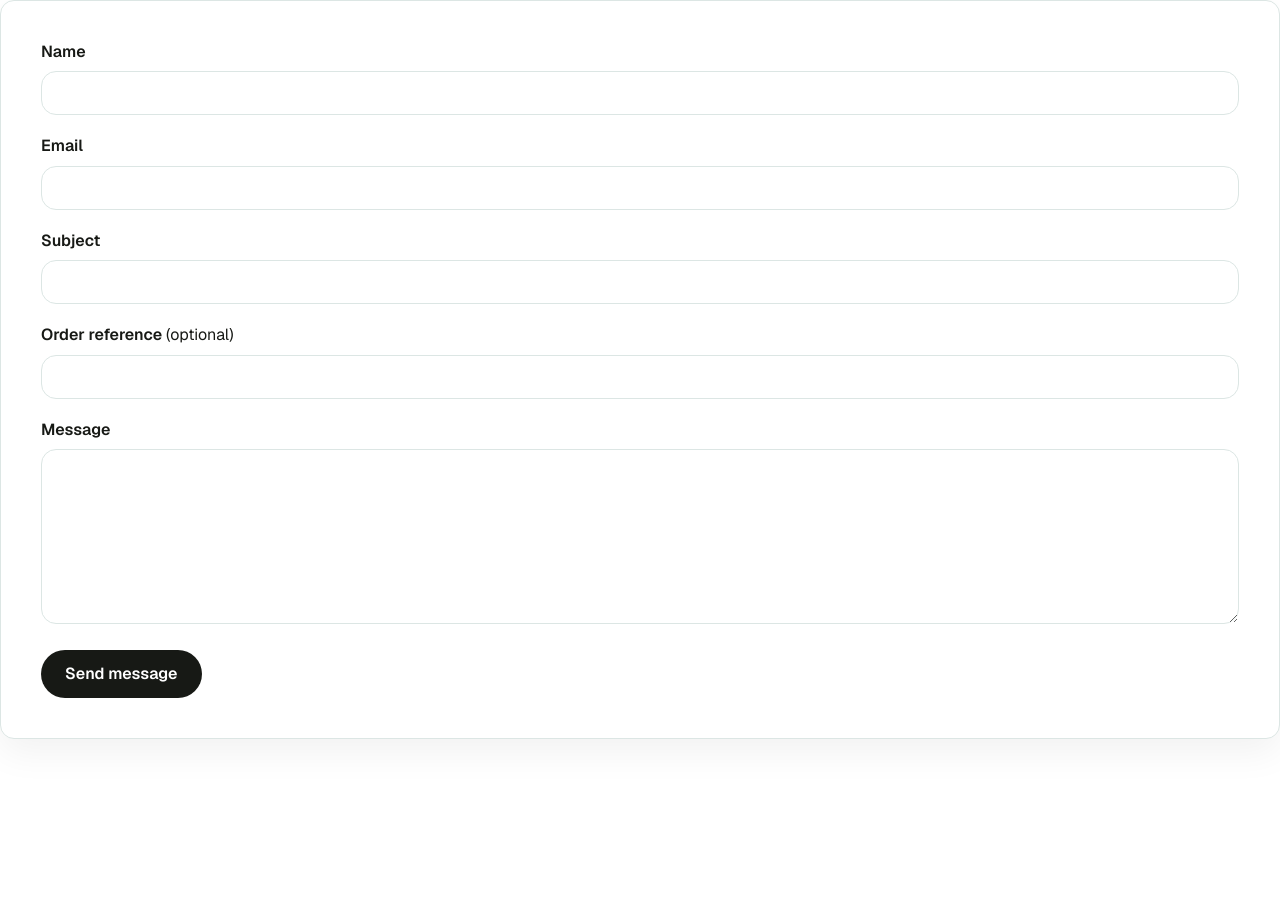
Scenario: ContactForm › clears settled ACCEPTED feedback when the visitor edits the form
Type "Ada" into the field labelled "Name".
click(640, 93); type("Ada")  # box [41,71,1239,115]
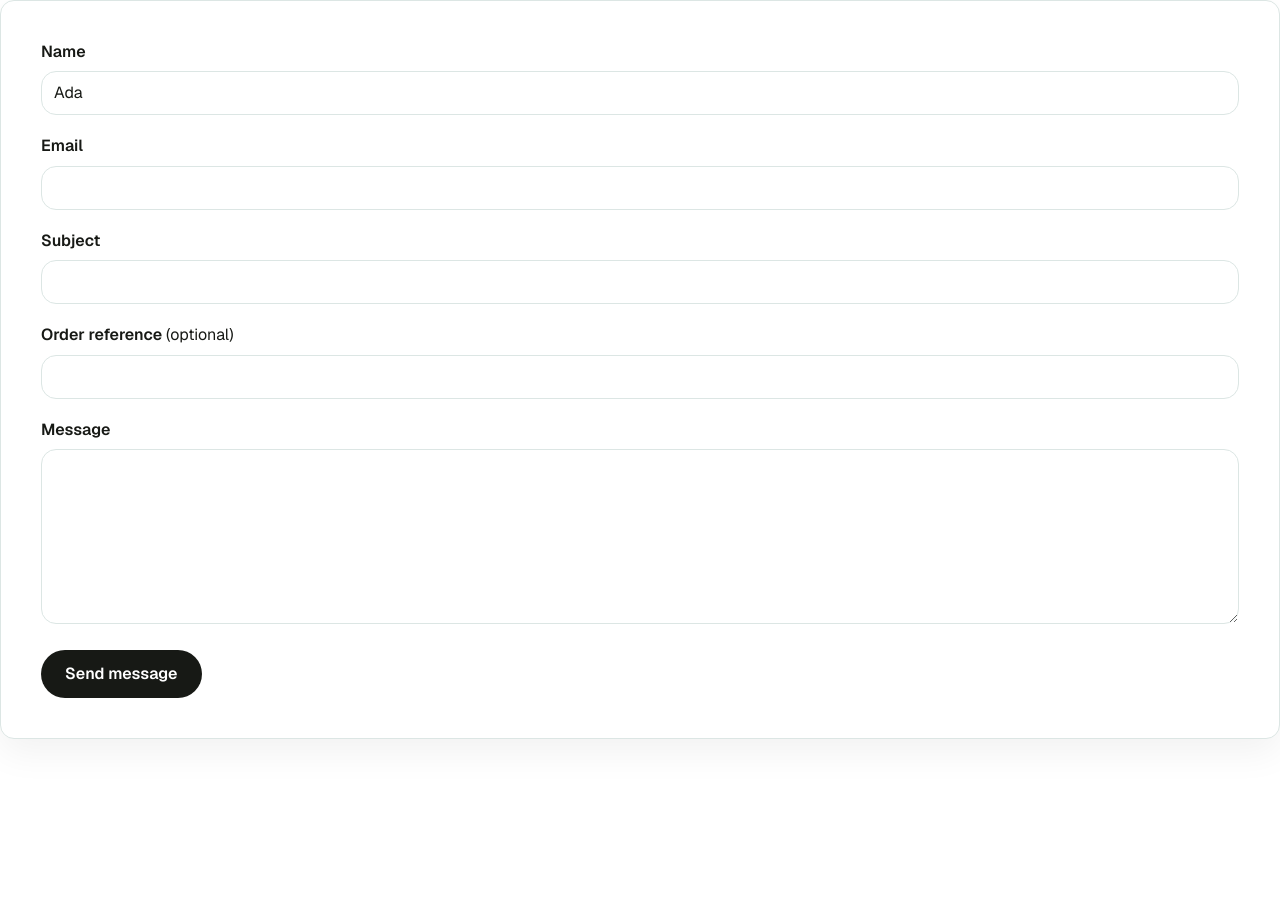
Type "ada@example.test" into the field labelled "Email".
click(640, 188); type("ada@example.test")  # box [41,166,1239,210]
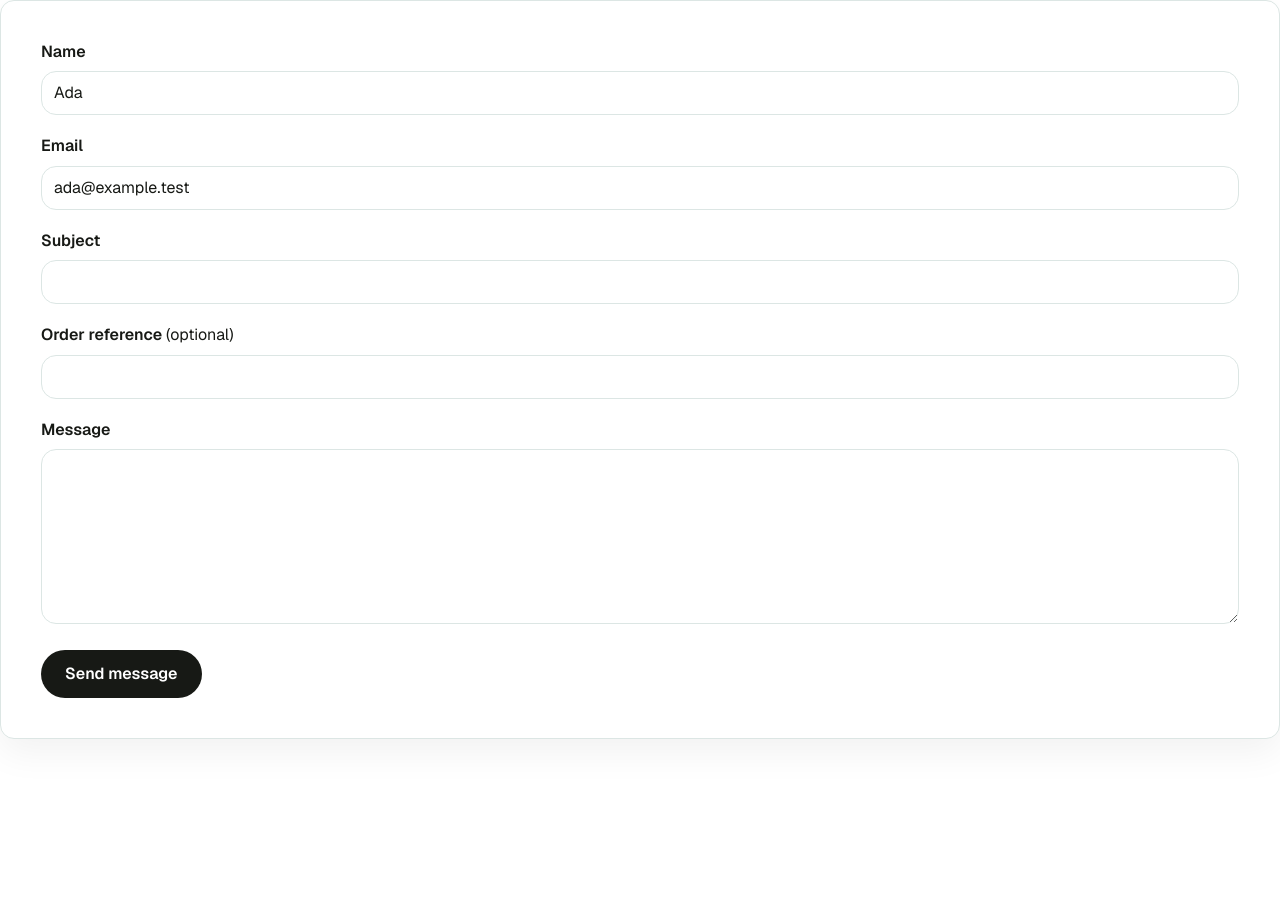
Type "Question" into the field labelled "Subject".
click(640, 282); type("Question")  # box [41,260,1239,304]
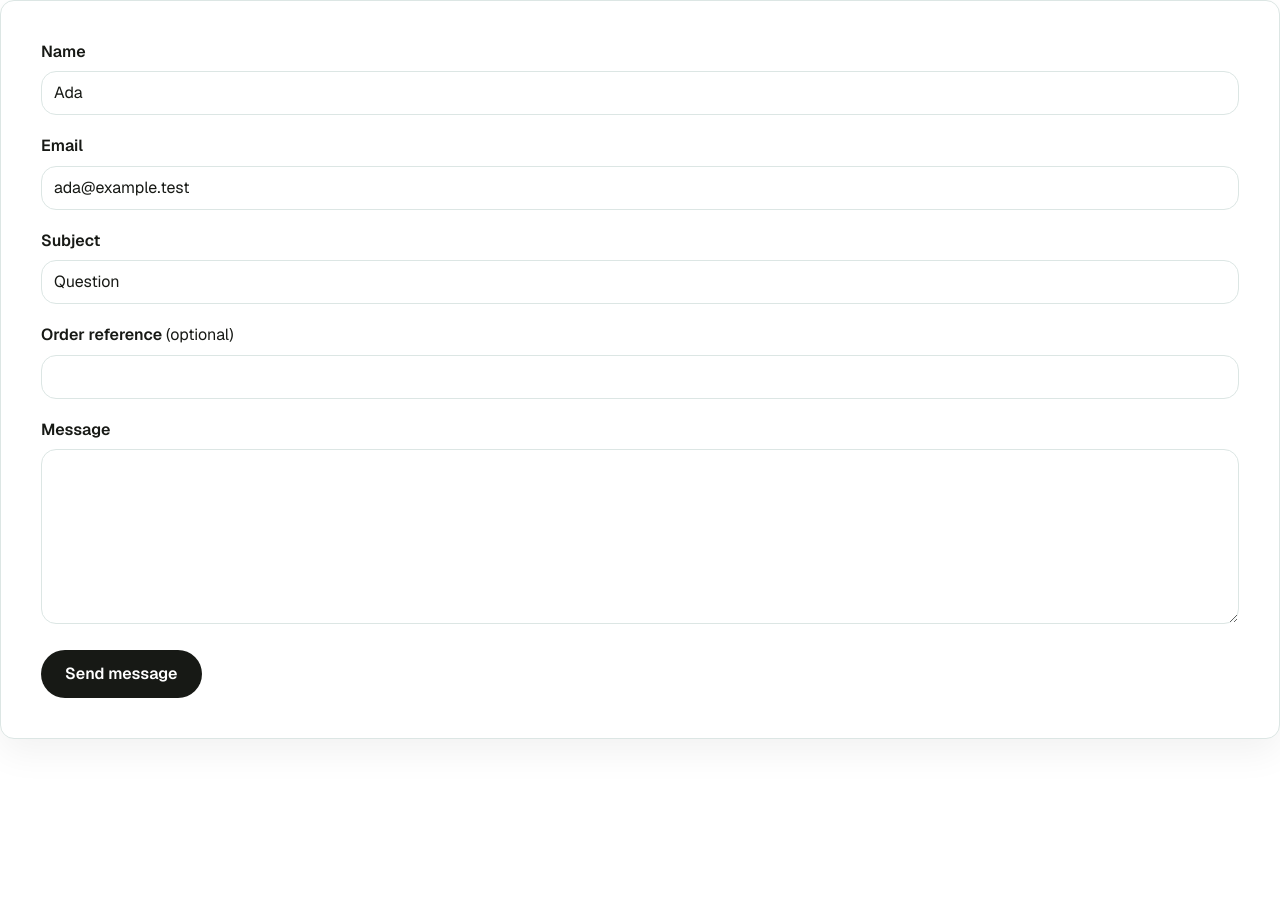
Type "Hello" into the text box labelled "Message".
click(640, 536); type("Hello")  # box [41,449,1239,624]
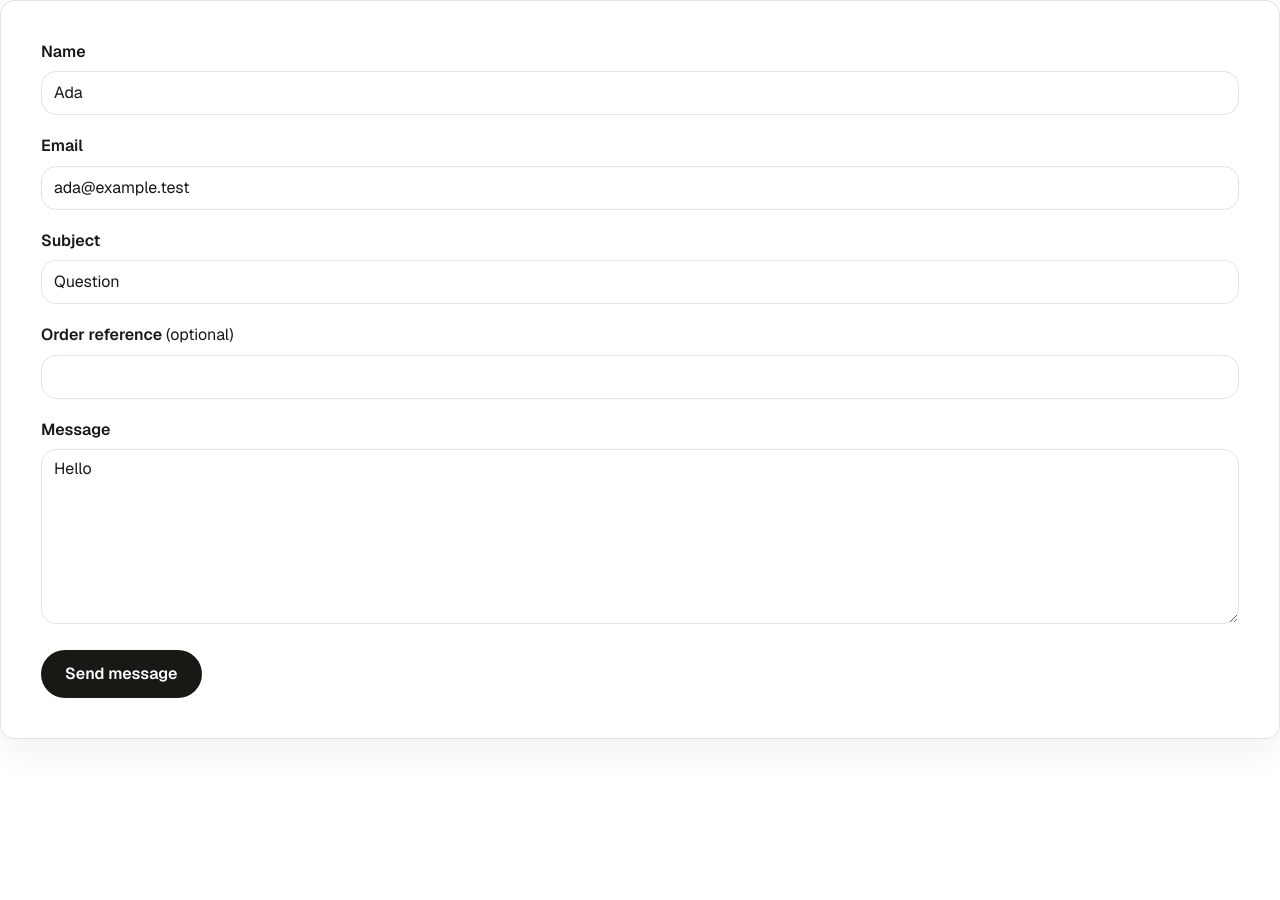
Submit the form
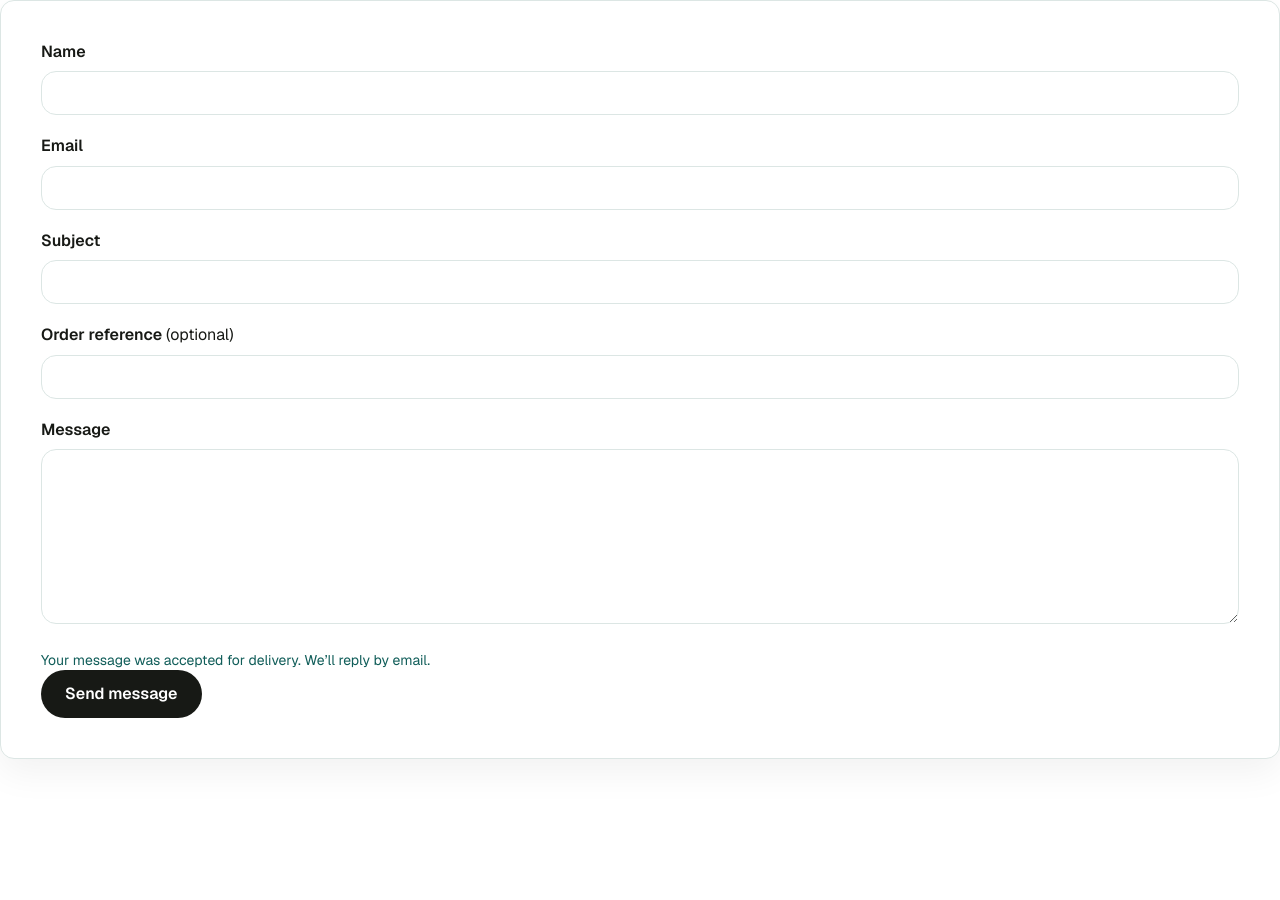
Check: the message "Your message was accepted for delivery. We’ll reply by email." is shown, box [41,651,430,669]
Type "updated@example.test" into the field labelled "Email".
click(640, 188); type("updated@example.test")  # box [41,166,1239,210]
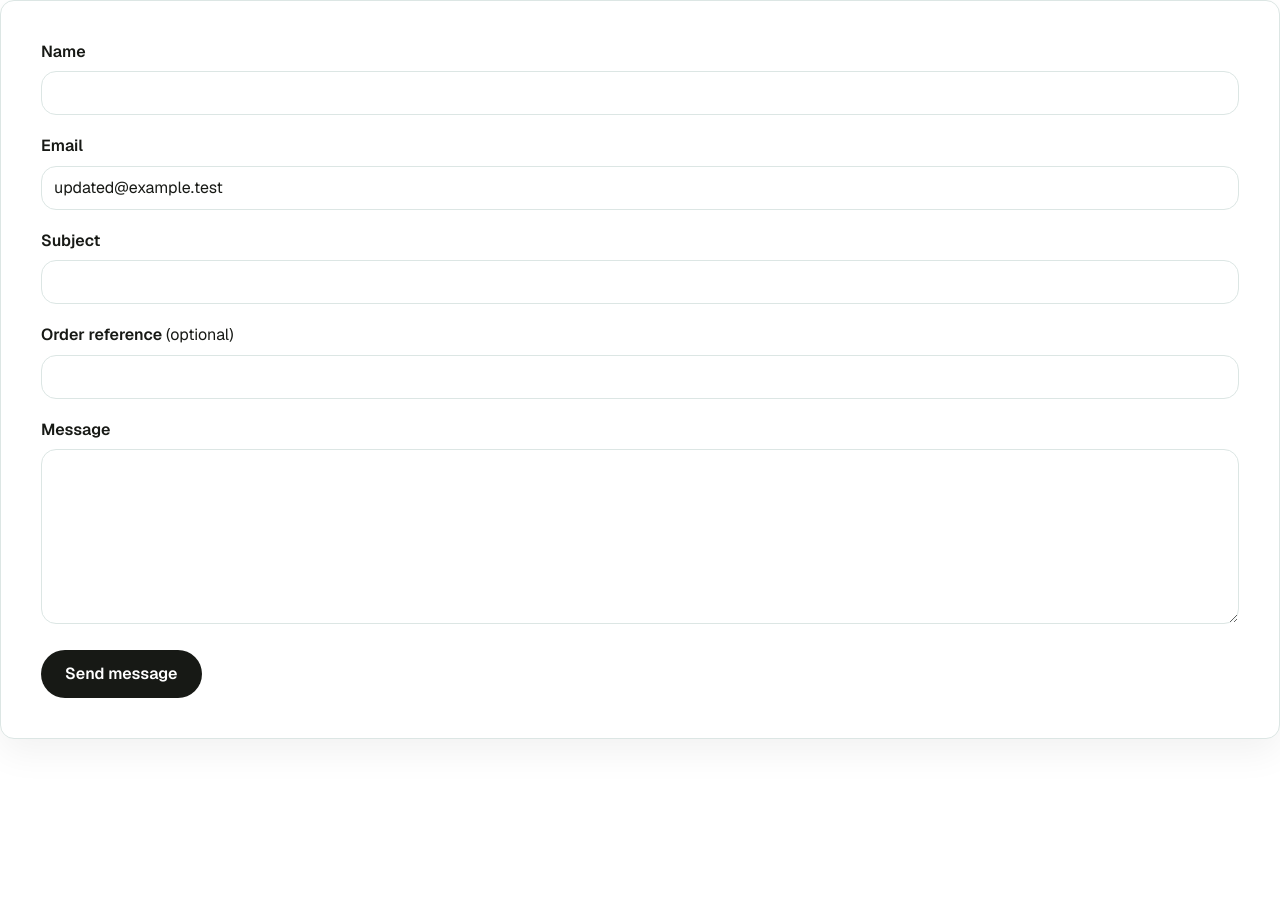
Check: the message "Your message was accepted for delivery. We’ll reply by email." is gone
